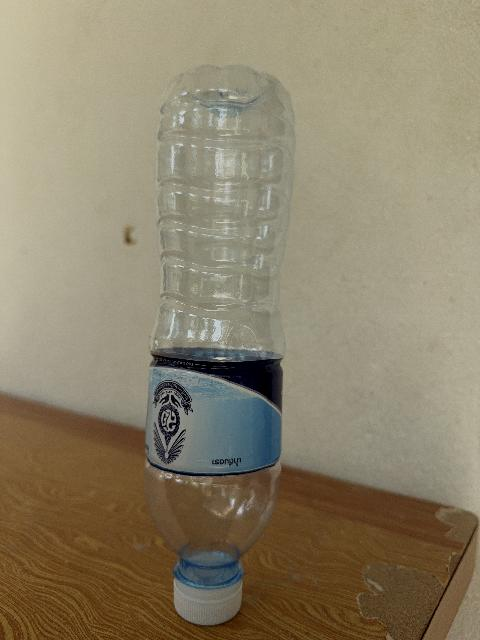bottle: (145, 66, 294, 624)
